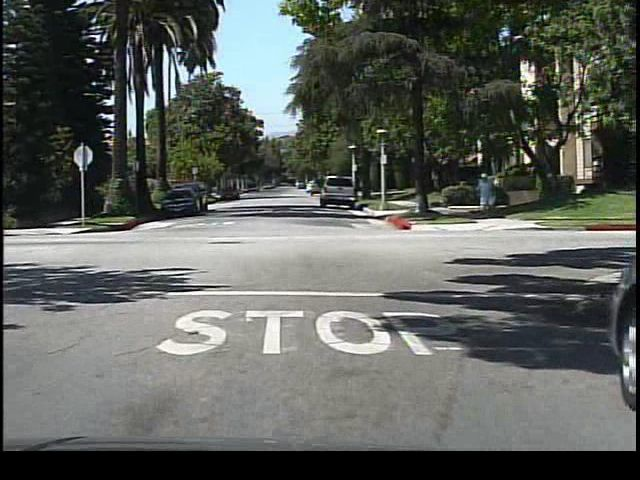person: (474, 168, 497, 218)
